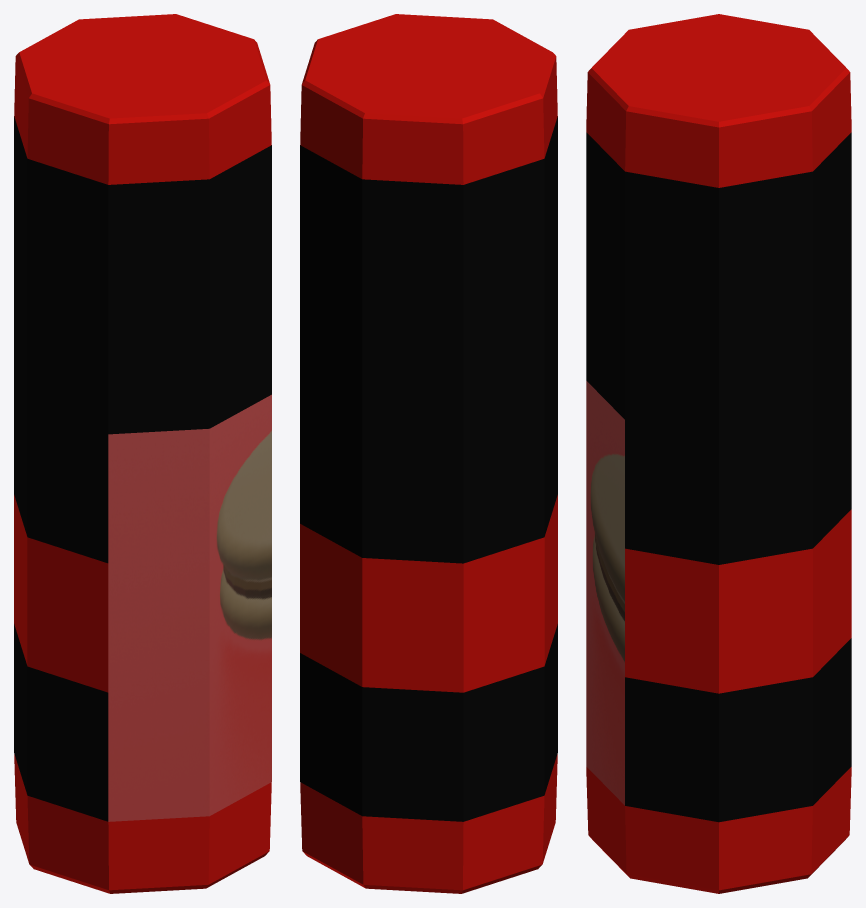
Rendered from Ma_Cookies_4.fbx.
3 views of the same model, side by side, from view 1: azimuth 30°, elevation 25°; view 2: azimuth 150°, elevation 25°; view 3: azimuth 270°, elevation 25° (orthographic).
Parts seen in each view (by area): view 1: Ma_Cookies_4; view 2: Ma_Cookies_4; view 3: Ma_Cookies_4.
Boxes of the visible parts, x1=… form: Ma_Cookies_4: x1=14, y1=14, x2=271, y2=893; Ma_Cookies_4: x1=300, y1=14, x2=557, y2=893; Ma_Cookies_4: x1=586, y1=14, x2=851, y2=893.
Size of the model in its own units: 59.42 by 59.42 by 191.
